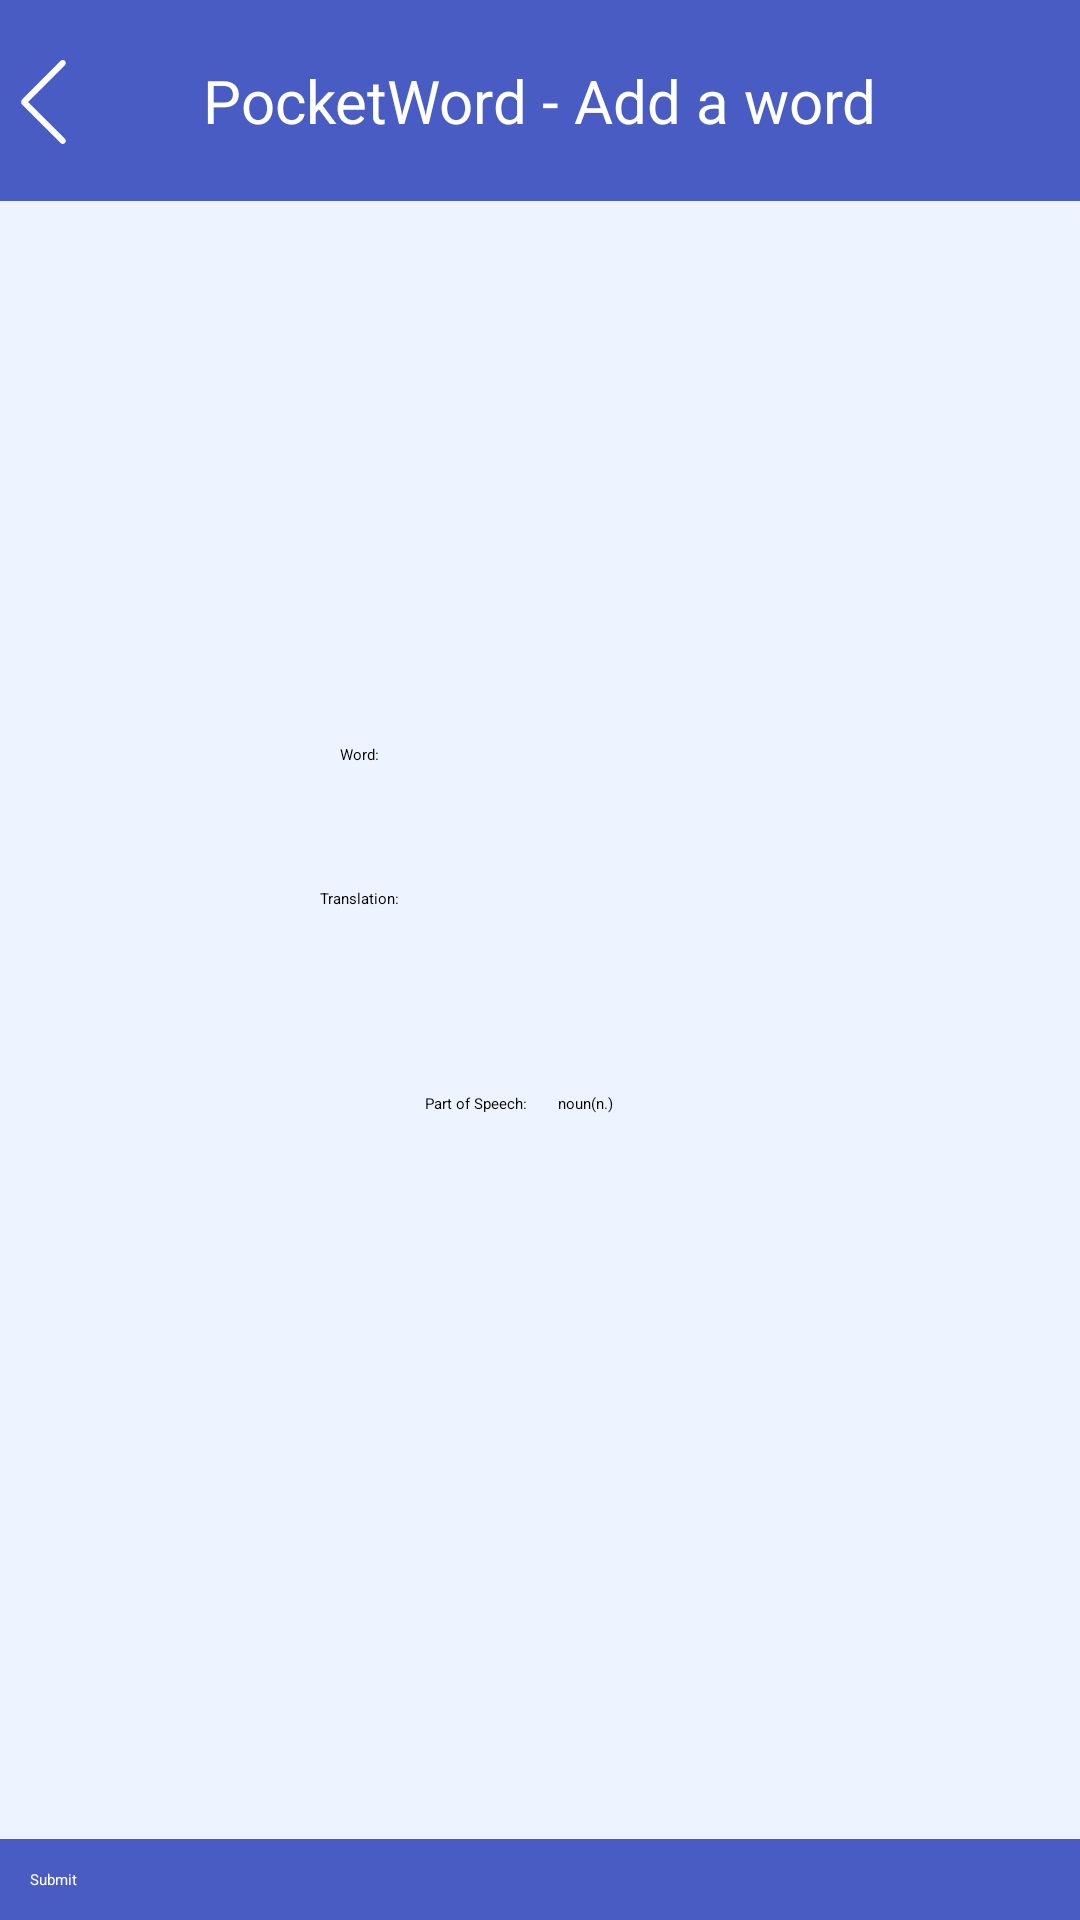

Locate icon controls on the screen. Image size 1080 x 1920, boxes as (x1=x1, y1=y1, x2=x2, y2=y2).
back: (x1=21, y1=60, x2=66, y2=144)
